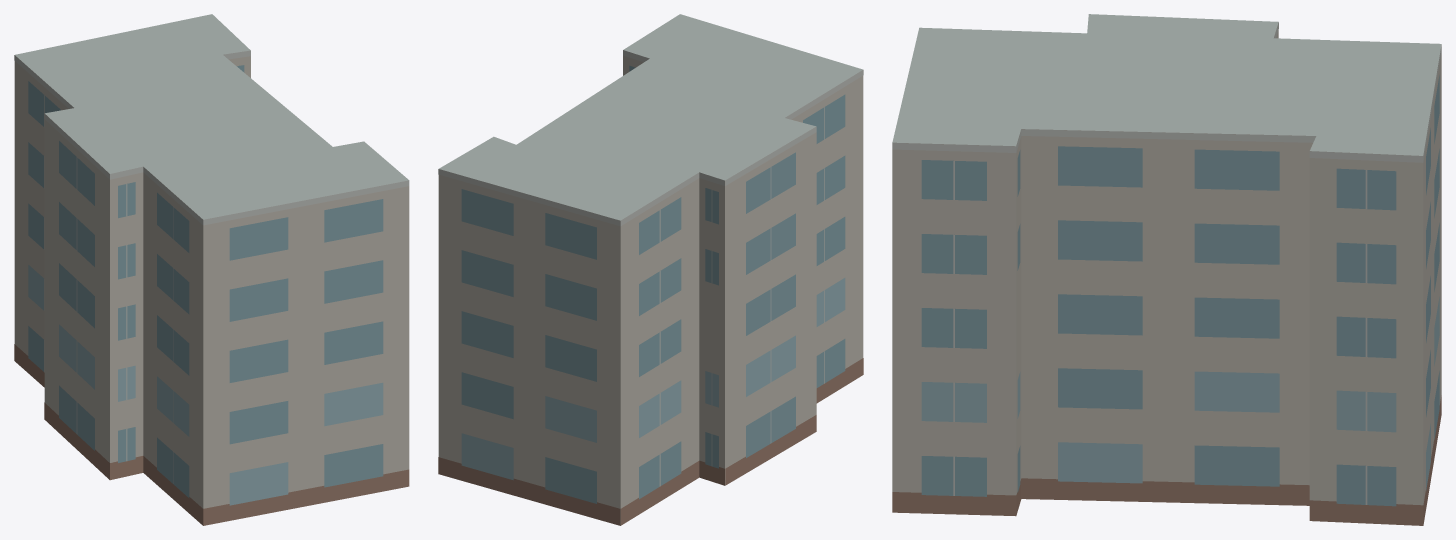
Rendered from survey-upis-32750270.glb.
3 renders of one model, left to right at view 1: azimuth 30°, elevation 25°; view 2: azimuth 150°, elevation 25°; view 3: azimuth 270°, elevation 25°, orthographic. The views are drawn at different scales.
Visible parts, largest first — view 1: survey-upis-32750270.tmp; view 2: survey-upis-32750270.tmp; view 3: survey-upis-32750270.tmp.
Part boxes in pixels (x1,y1,x2,y2): survey-upis-32750270.tmp: (14,14,409,525); survey-upis-32750270.tmp: (438,14,863,525); survey-upis-32750270.tmp: (892,14,1441,525).
Size of the model in its own units: 10.79 by 13.1 by 17.64.
